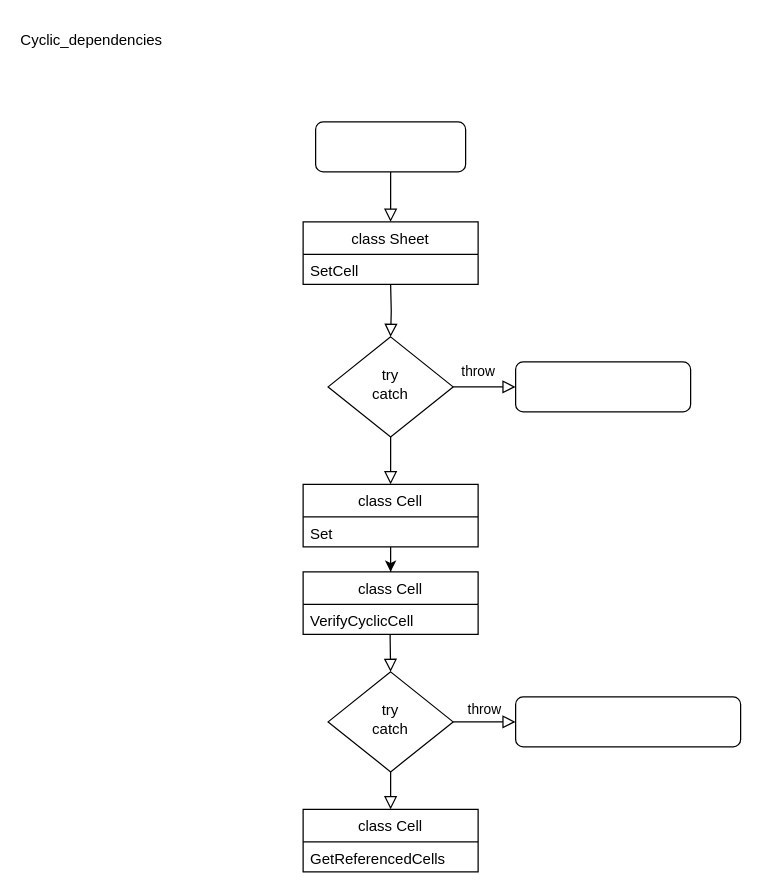
This 763x896 diagram has some shape labels left out. Here are the shapes that lost their labels. From the top down, the box of each, then its label:
(314, 121, 466, 172): position, expression
(514, 361, 691, 412): InvalidPositionException
(514, 696, 741, 747): CircularDependencyExceprtion
